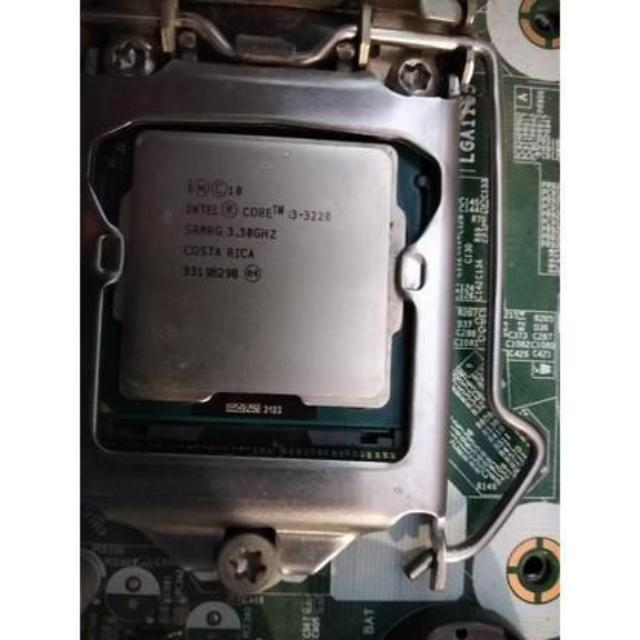CPU: (93, 122, 416, 432)
